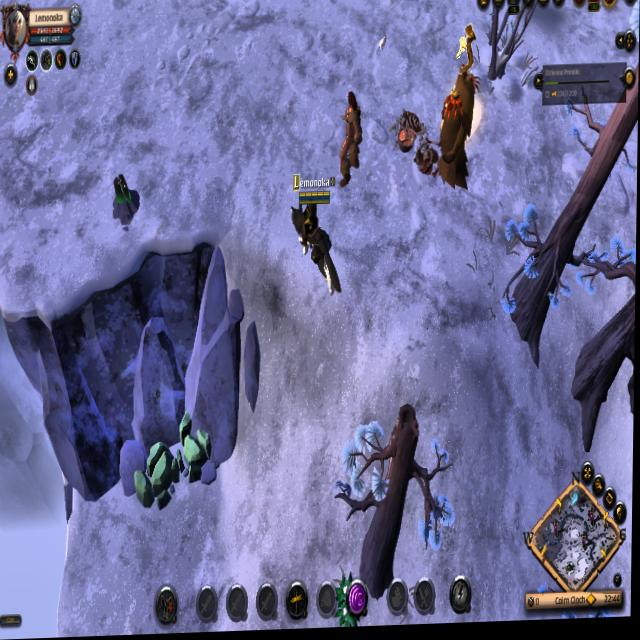ore tier 3: (109, 171, 143, 232)
rock tier 3: (131, 441, 180, 514), (178, 411, 216, 494)
